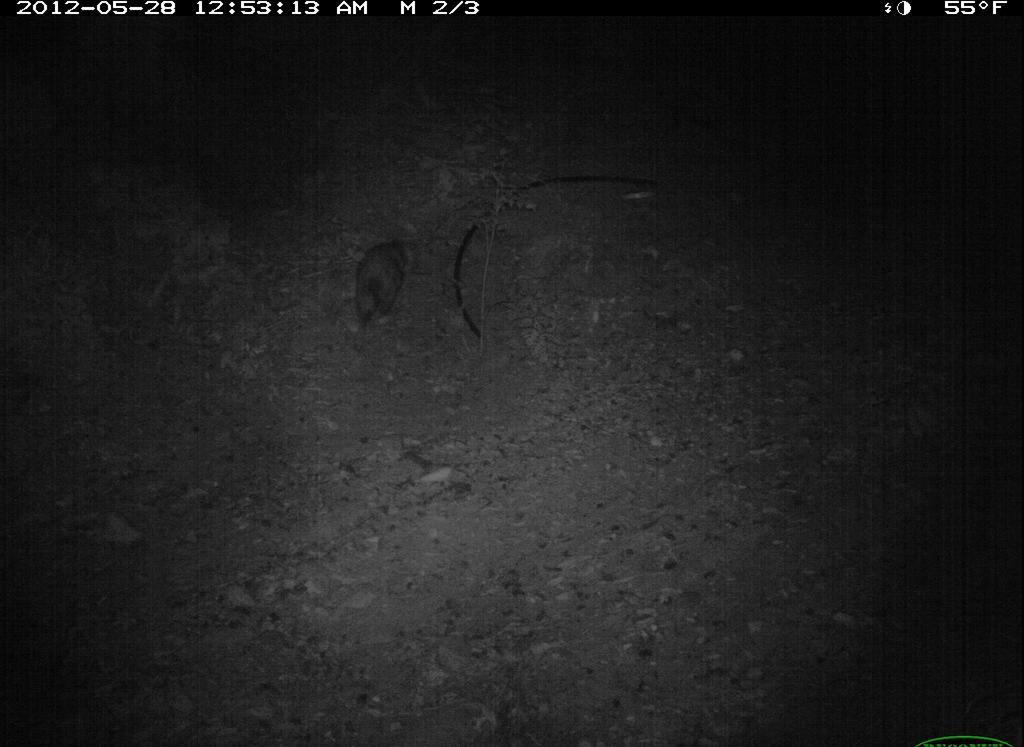opossum: (337, 227, 428, 347)
